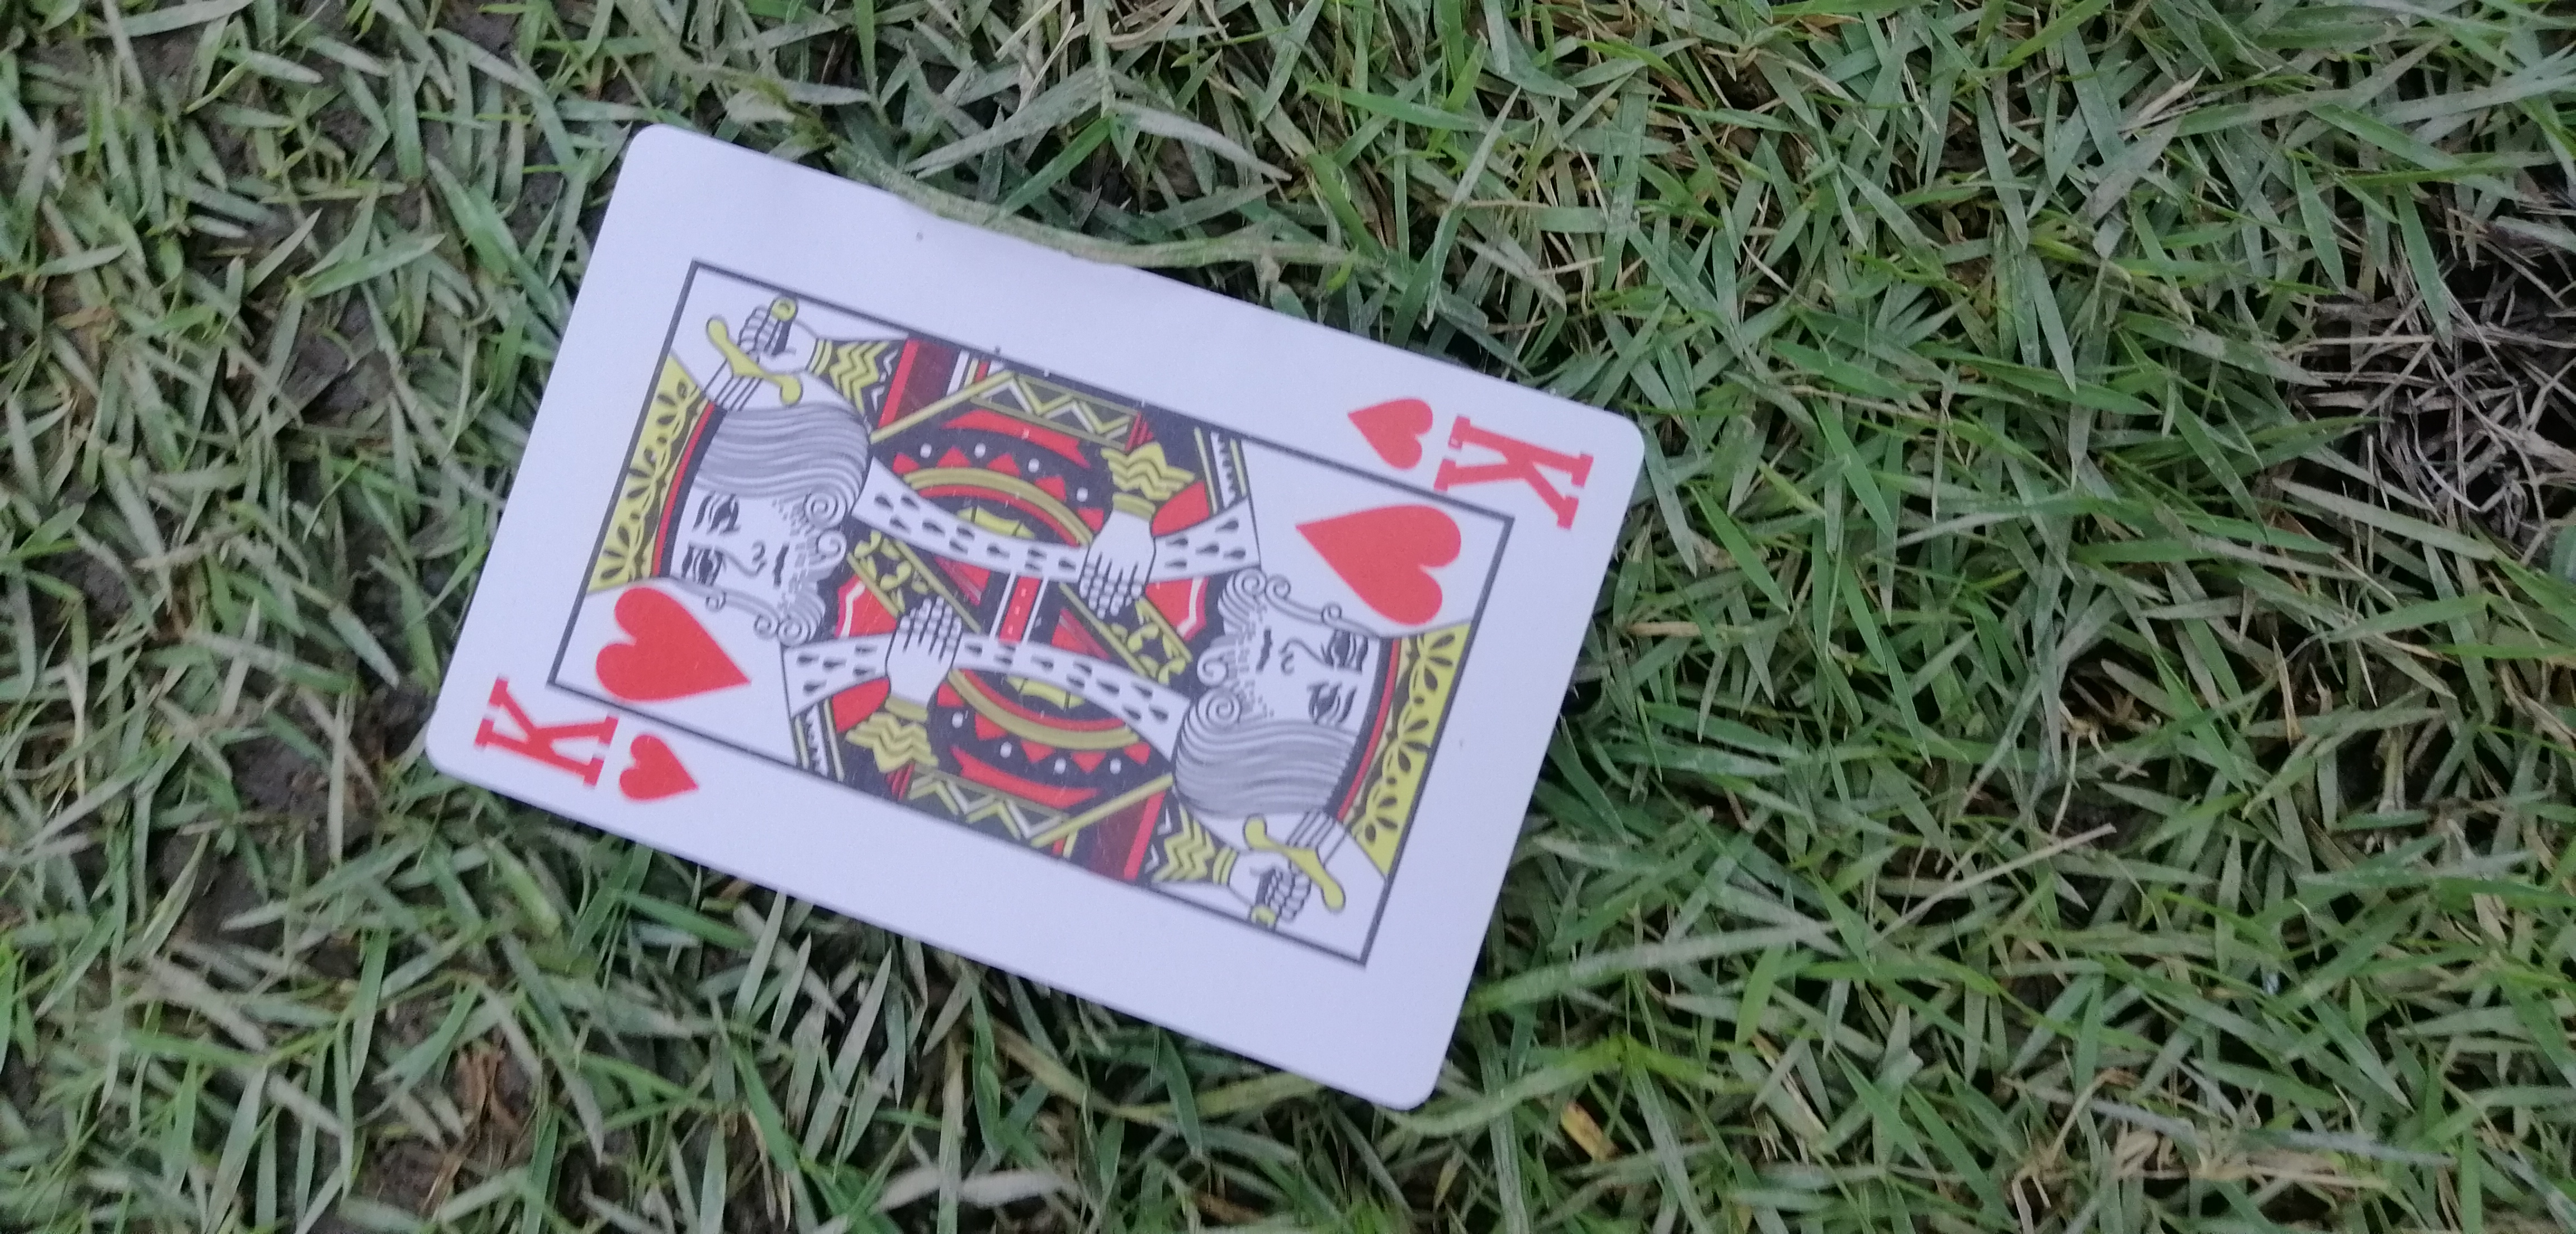king: (379, 107, 1610, 1122)
